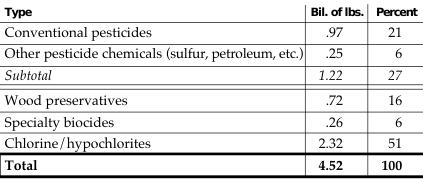table: (3, 4, 417, 172)
table column: (3, 4, 258, 172), (258, 4, 369, 172), (369, 4, 417, 172)
table column header: (3, 4, 417, 20)
table row: (3, 63, 417, 87), (3, 87, 417, 110), (3, 20, 417, 42), (3, 131, 417, 153), (3, 42, 417, 63), (3, 110, 417, 131), (3, 153, 417, 172), (3, 4, 417, 20)
